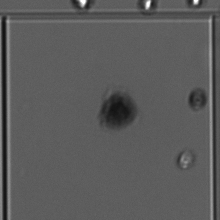Dead Cell: (99, 89, 140, 130), (185, 86, 208, 110)
Living Cell: (176, 148, 196, 169), (135, 1, 157, 12), (70, 1, 93, 11), (186, 1, 206, 10)
